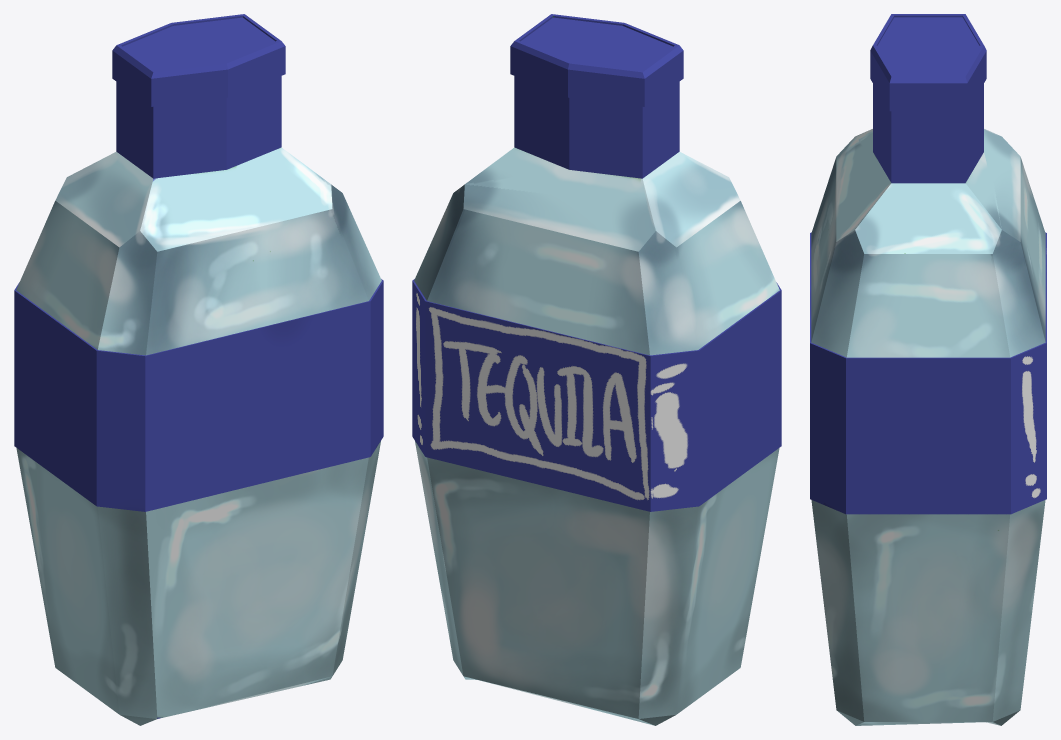
The model's file is Tequila.fbx.
3 renders of one model, left to right at view 1: azimuth 30°, elevation 25°; view 2: azimuth 150°, elevation 25°; view 3: azimuth 270°, elevation 25°, orthographic.
Visible parts, largest first — view 1: Bottiglia1_0; view 2: Bottiglia1_0; view 3: Bottiglia1_0.
Part boxes in pixels (x1,y1,x2,y2): Bottiglia1_0: (14,14,383,725); Bottiglia1_0: (412,14,781,725); Bottiglia1_0: (810,14,1046,725).
Bounding box in the file's own units: 44.78 × 95.37 × 31.92.
